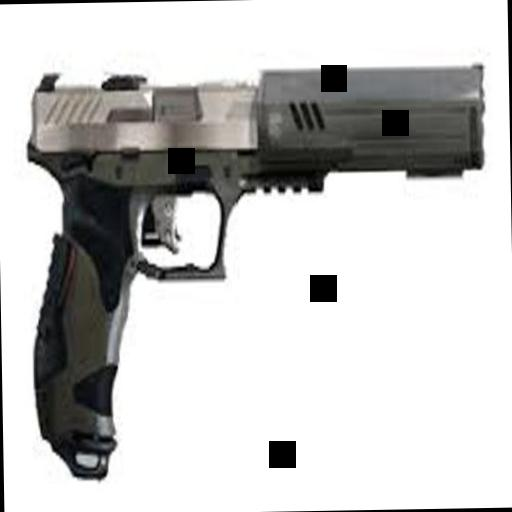Handgun: (24, 42, 484, 483)
